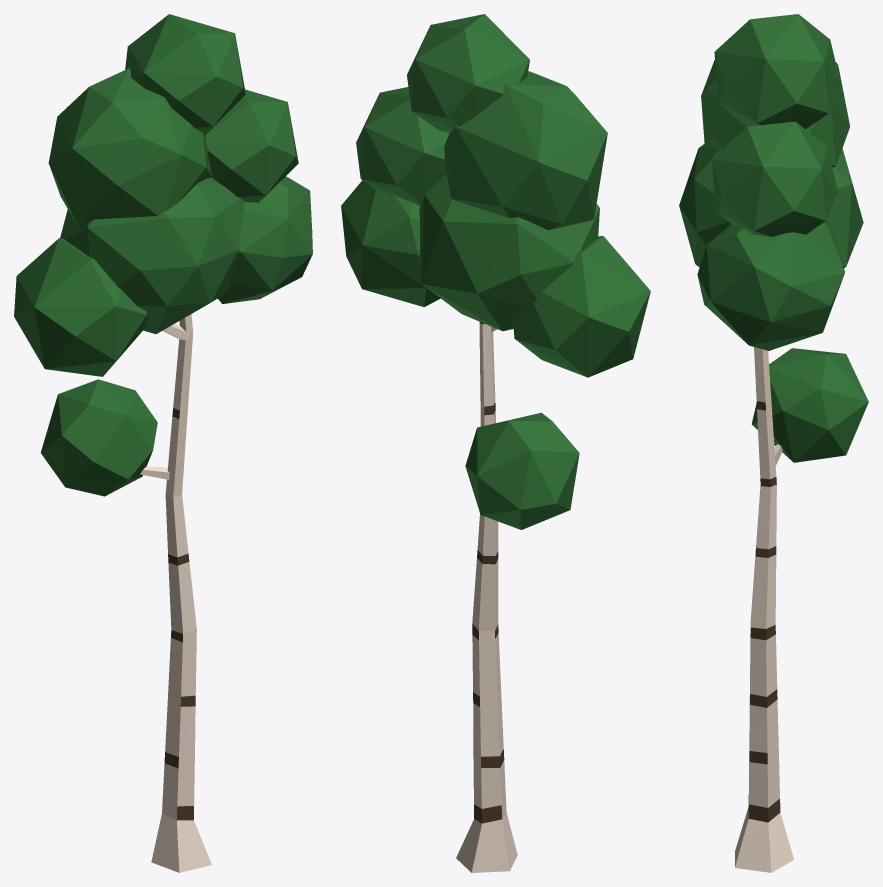
File: tree-birch-tall.glb
3 renders of one model, left to right at view 1: azimuth 30°, elevation 25°; view 2: azimuth 150°, elevation 25°; view 3: azimuth 270°, elevation 25°, orthographic. The views are drawn at different scales.
Visible parts, largest first — view 1: tree-birch-tall; view 2: tree-birch-tall; view 3: tree-birch-tall.
Part boxes in pixels (x1,y1,x2,y2): tree-birch-tall: (14, 14, 312, 872); tree-birch-tall: (341, 14, 650, 872); tree-birch-tall: (679, 14, 868, 872).
Size of the model in its own units: 3.76 by 10.35 by 2.1.
